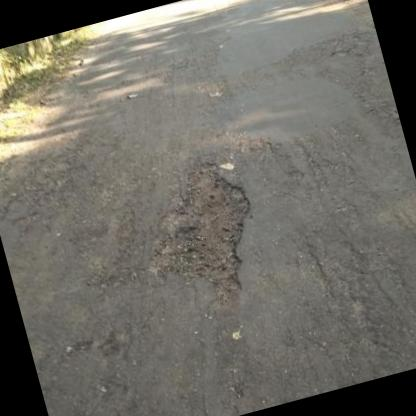pothole: (124, 143, 278, 322)
